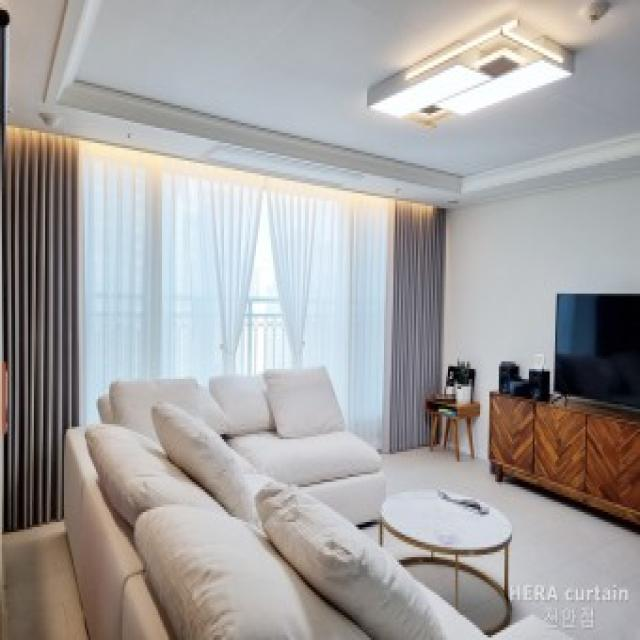Sofa: (59, 362, 464, 640)
Table: (377, 479, 517, 623)
tv: (549, 289, 640, 404)
